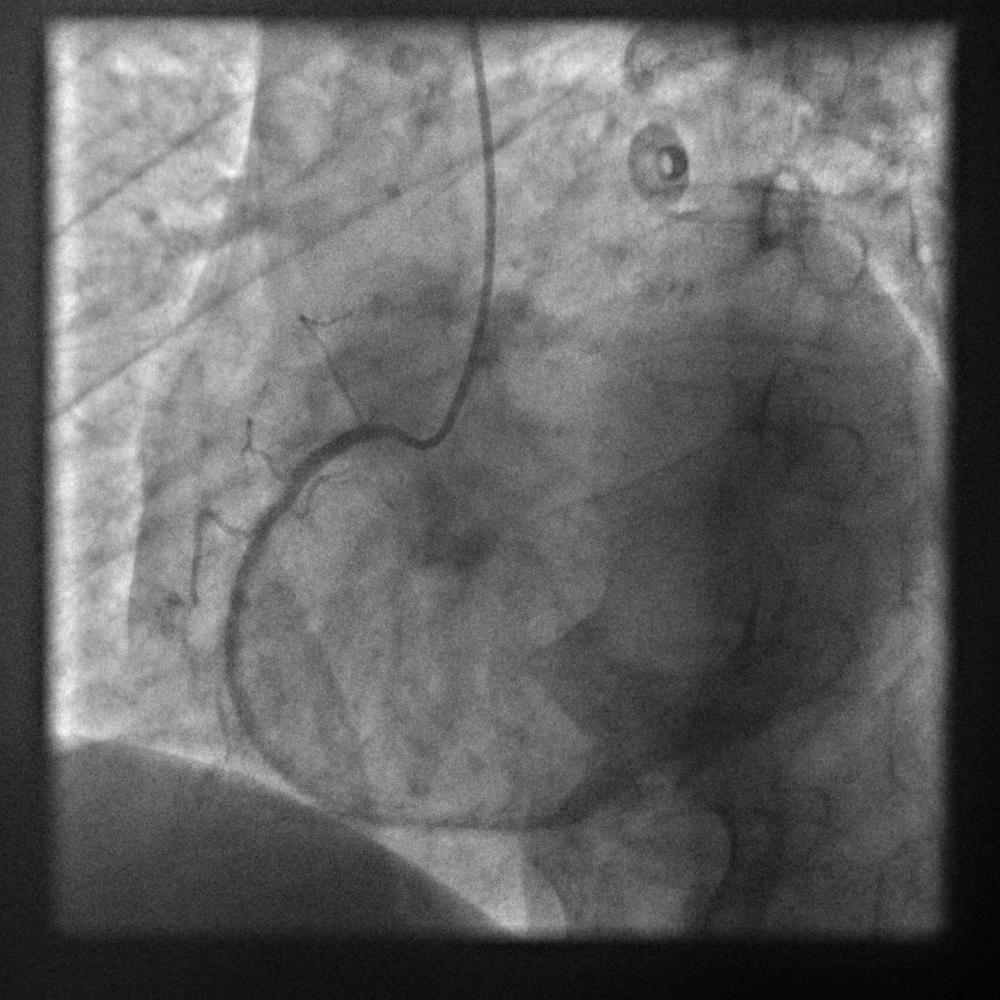Stenosis: (259, 467, 299, 514)
